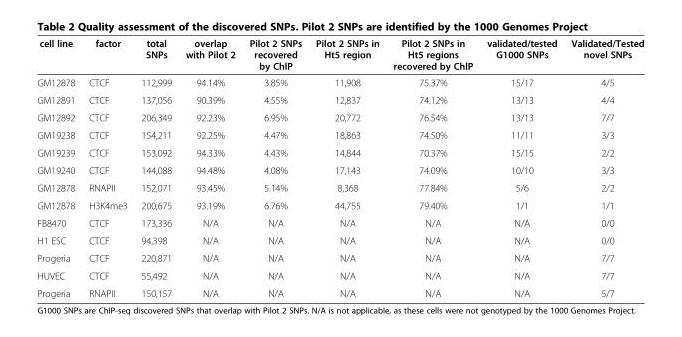table: (36, 37, 643, 298)
table column: (385, 37, 479, 298), (479, 37, 563, 298), (563, 37, 643, 298), (308, 37, 385, 298), (241, 37, 308, 298), (178, 37, 241, 298), (81, 37, 133, 298), (36, 37, 81, 298), (133, 37, 178, 298)
table column header: (36, 37, 643, 73)
table row: (36, 37, 643, 73), (36, 90, 643, 108), (36, 125, 643, 143), (36, 143, 643, 161), (36, 178, 643, 196), (36, 213, 643, 231), (36, 248, 643, 266), (36, 266, 643, 284), (36, 73, 643, 90), (36, 108, 643, 125), (36, 161, 643, 178), (36, 196, 643, 213), (36, 231, 643, 248), (36, 284, 643, 298)
